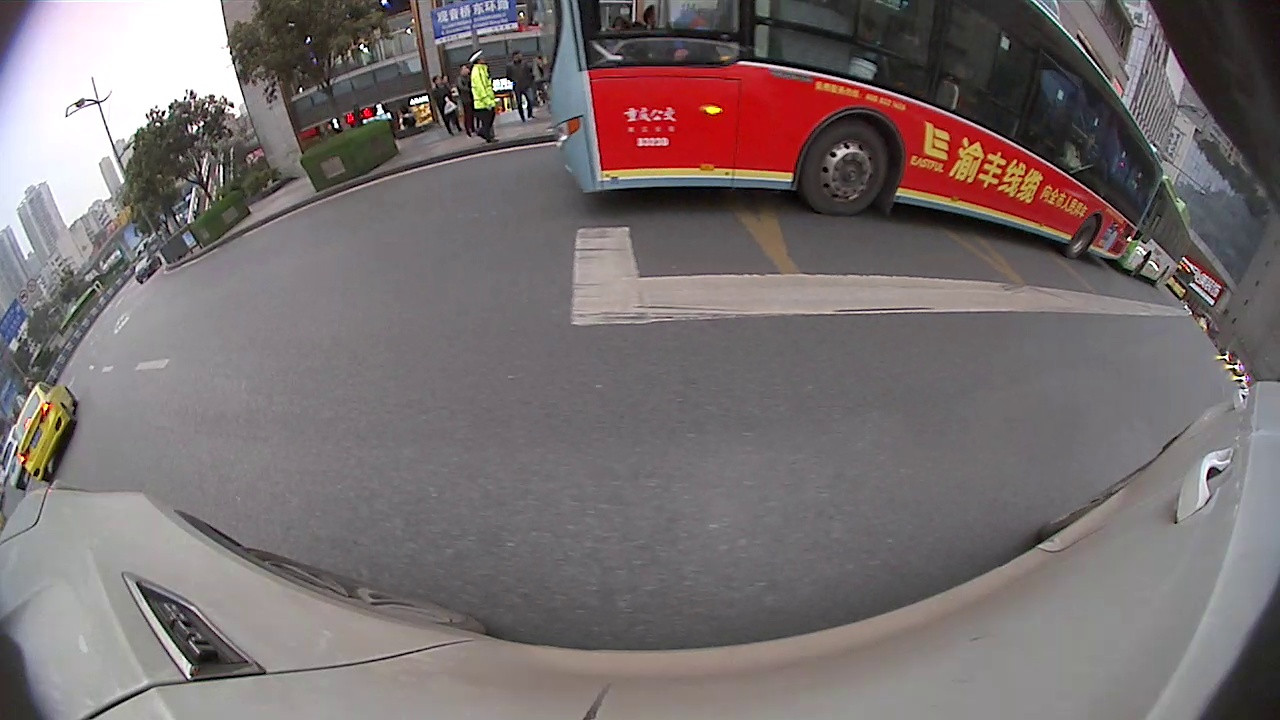car: (728, 72, 1074, 312), (186, 86, 419, 224), (631, 53, 803, 131), (1098, 259, 1143, 310)
front: (300, 137, 352, 187), (1020, 271, 1066, 312), (40, 335, 54, 352)
rear: (842, 205, 917, 275), (206, 181, 239, 223), (672, 96, 706, 130)
